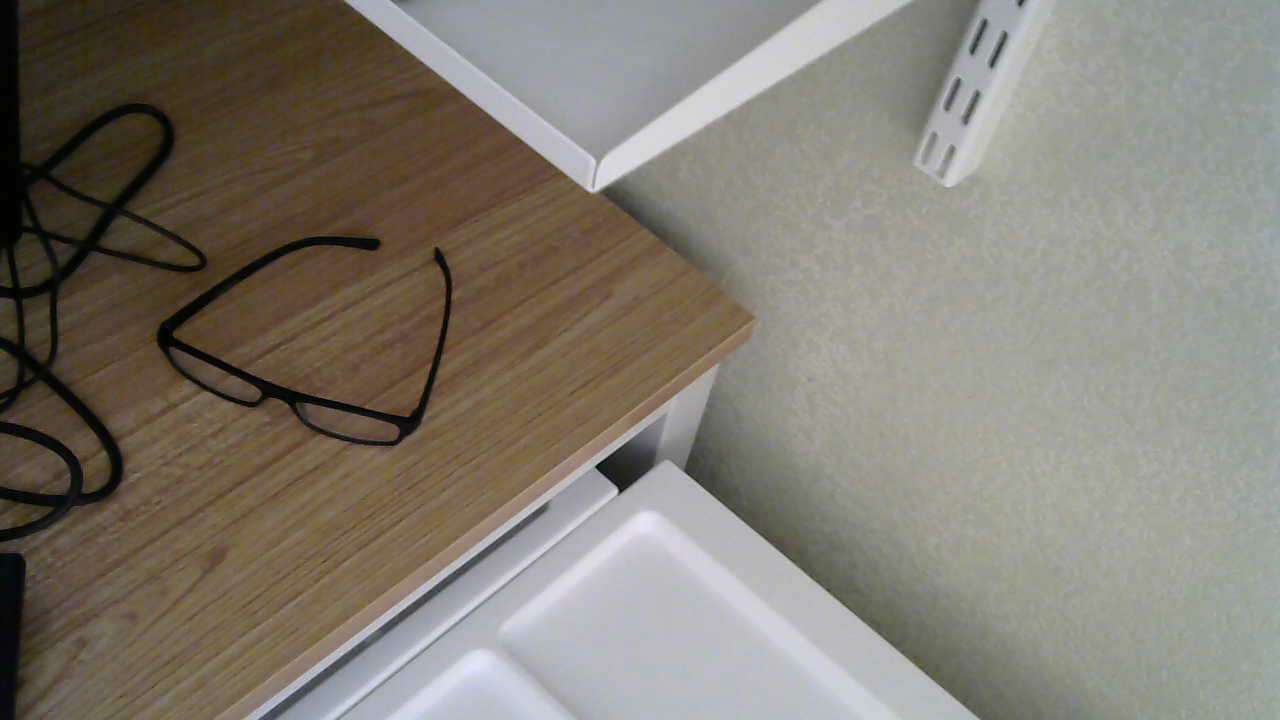Glasses: (178, 160, 458, 471)
